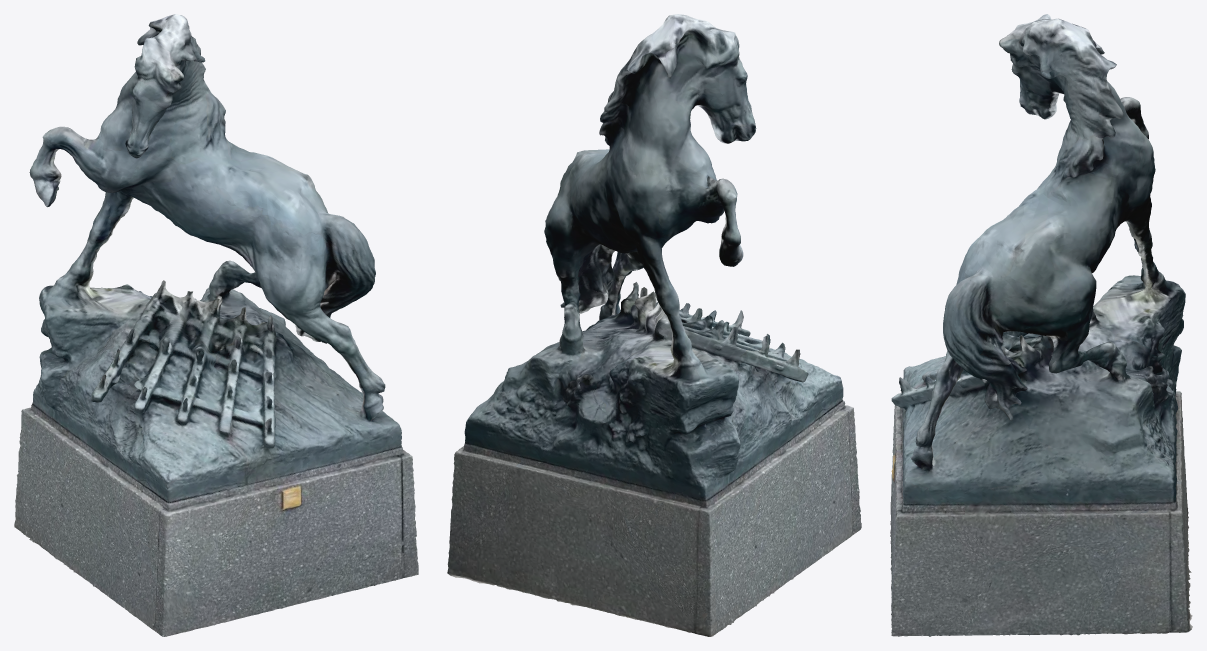
Rendered from preview.glb.
3 renders of one model, left to right at view 1: azimuth 30°, elevation 25°; view 2: azimuth 150°, elevation 25°; view 3: azimuth 270°, elevation 25°, orthographic. The views are drawn at different scales.
Visible parts, largest first — view 1: Object_2; view 2: Object_2; view 3: Object_2.
Boxes of the visible parts, <box> form: Object_2: <box>14,14,418,636</box>; Object_2: <box>447,14,861,636</box>; Object_2: <box>890,14,1192,636</box>.
Bounding box in the file's own units: 0.5033 × 0.9652 × 0.4921.
1 material, 1 textured.
